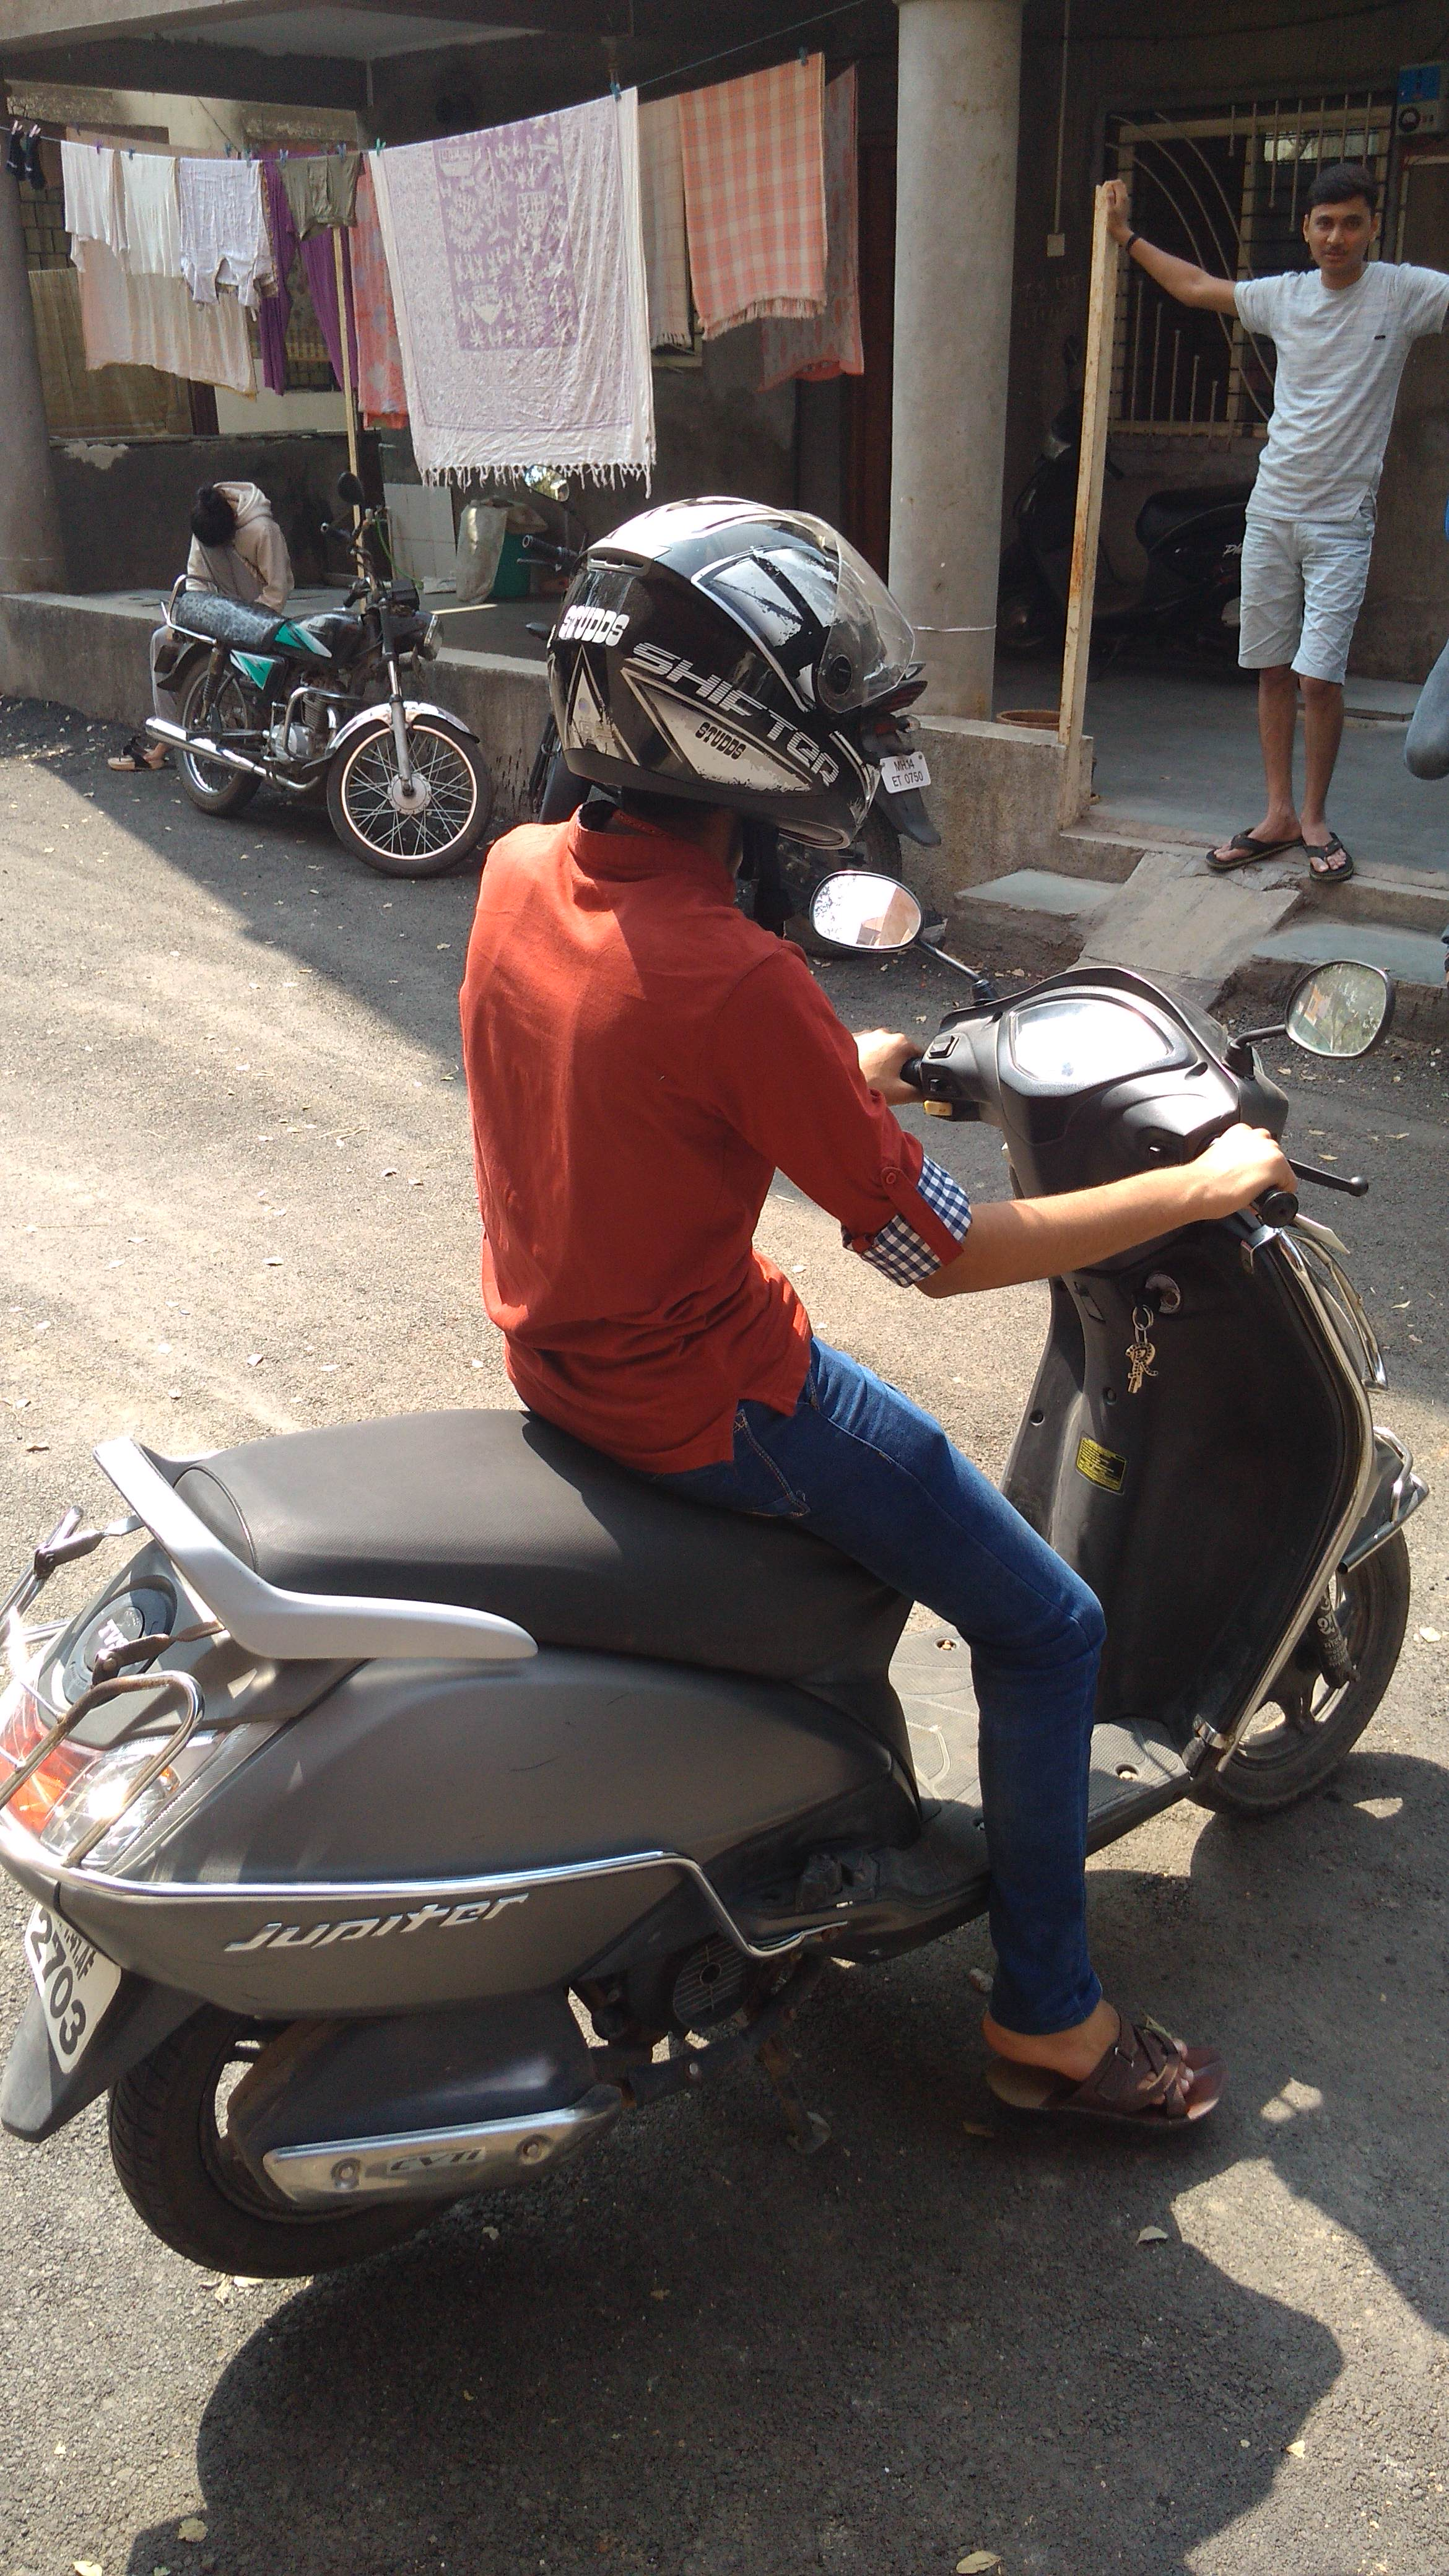helmet: (448, 462, 998, 1495)
